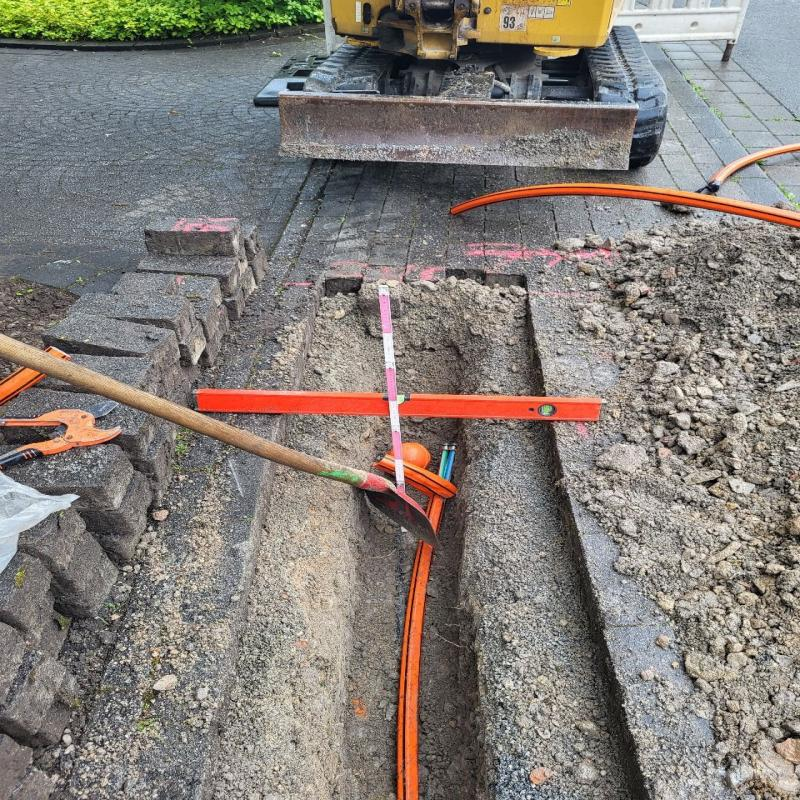Kugelmarker: (392, 442, 432, 469)
Orang-Speednetrohrchen: (398, 540, 433, 799), (427, 443, 458, 536)
